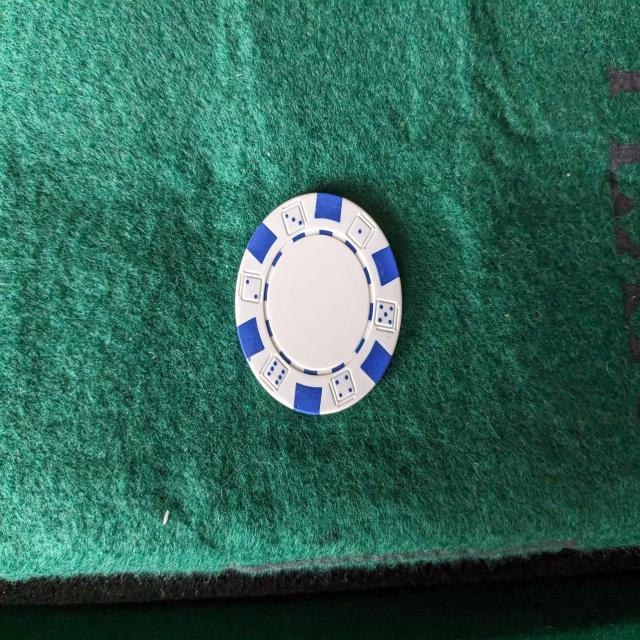white chip: (233, 191, 405, 418)
